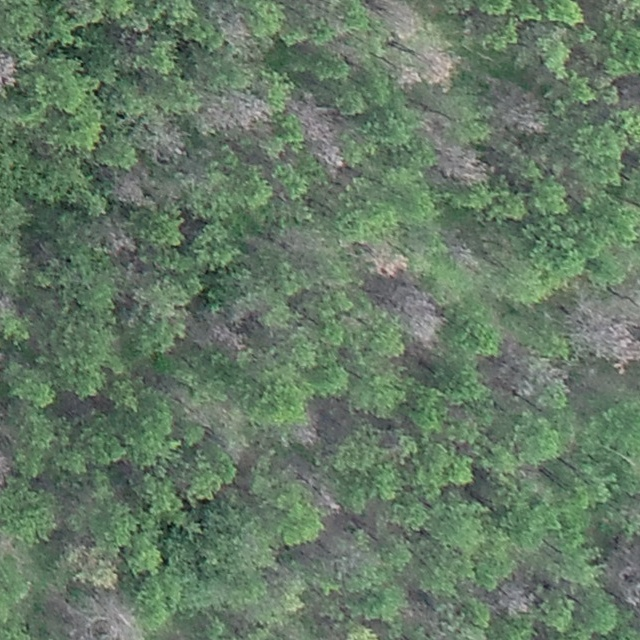unhealthy: (565, 307, 640, 365), (491, 347, 563, 396), (391, 285, 445, 348), (203, 89, 272, 138), (65, 597, 135, 640), (434, 142, 489, 188), (285, 100, 341, 142), (374, 0, 426, 41), (141, 114, 187, 160), (72, 544, 117, 591), (357, 238, 410, 277), (605, 546, 640, 603), (504, 94, 551, 135), (206, 306, 249, 349), (419, 47, 458, 94), (444, 231, 486, 274), (90, 221, 141, 256), (299, 475, 344, 513), (498, 581, 529, 619), (221, 13, 252, 44), (318, 146, 346, 180), (115, 176, 146, 206), (299, 415, 323, 446), (0, 54, 17, 91), (396, 64, 421, 87)
